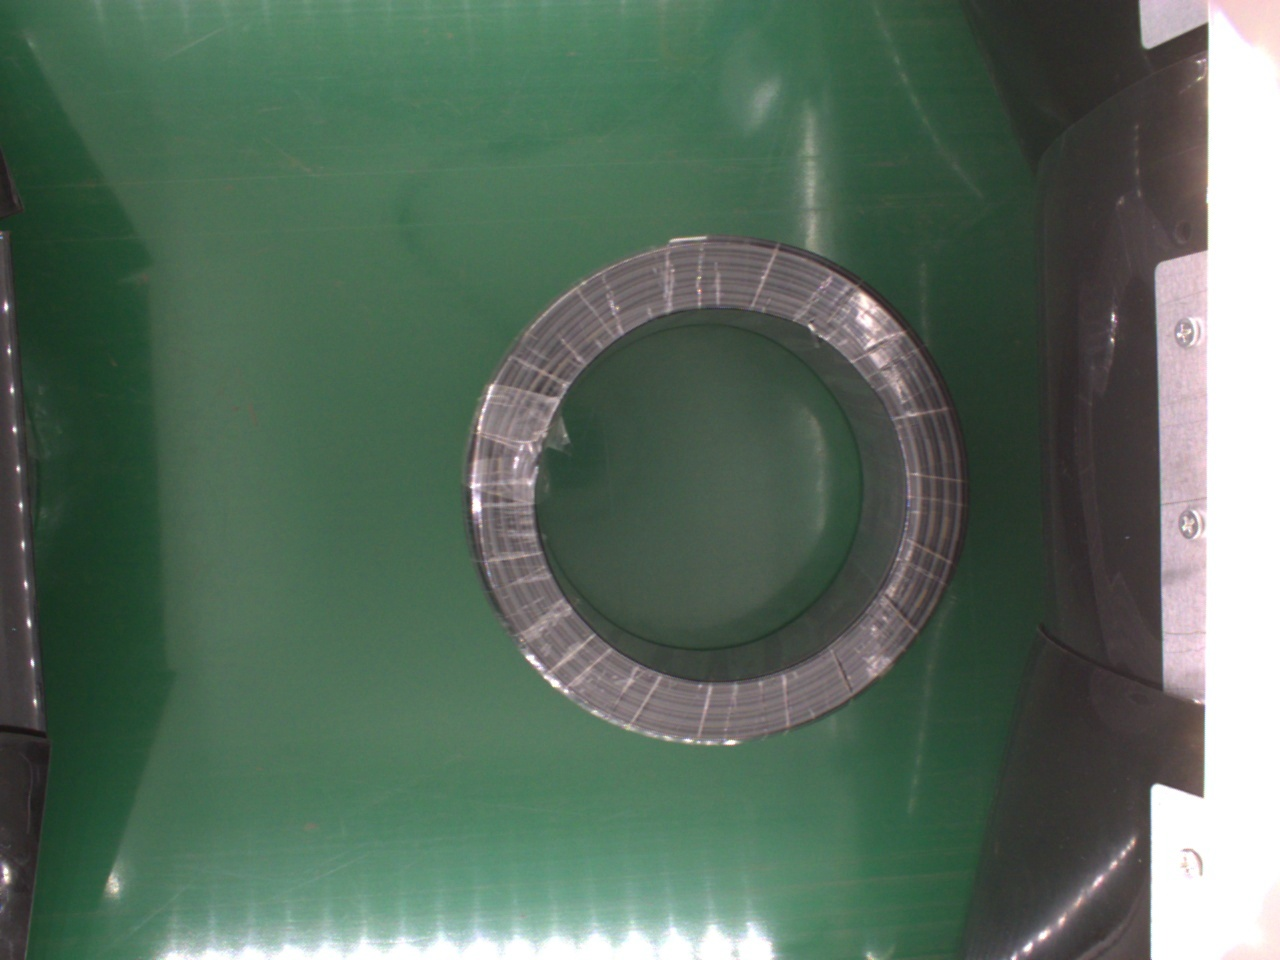black: (462, 234, 963, 743)
